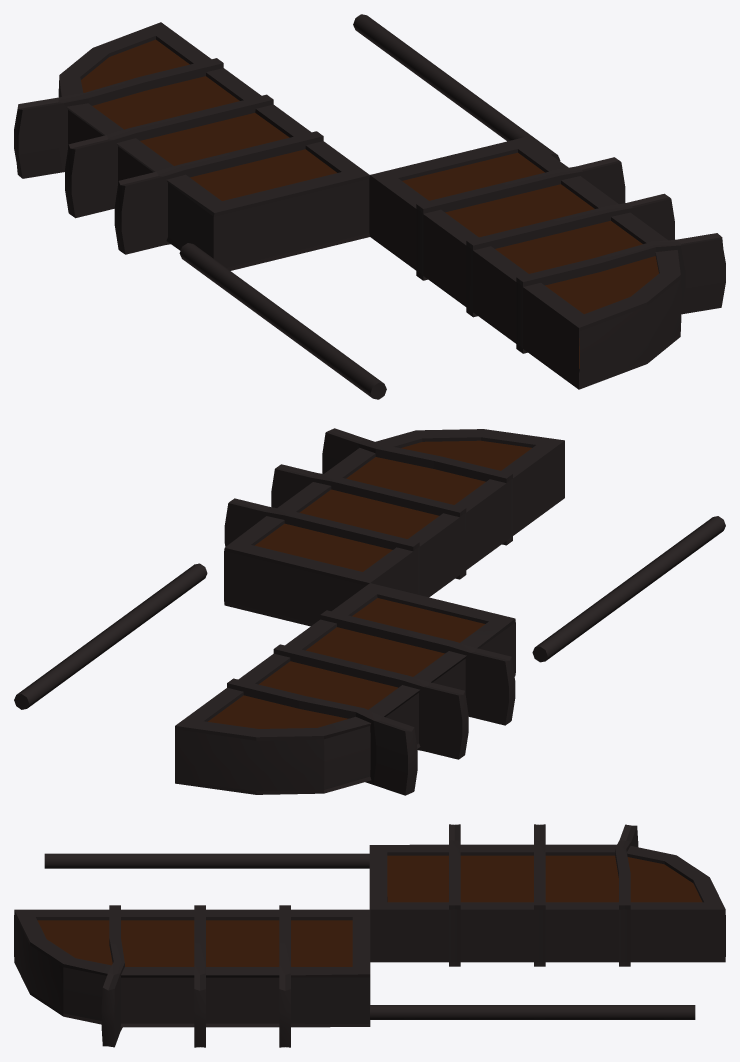
The model's file is Porta.FBX.
3 renders of one model, top to bottom at view 1: azimuth 30°, elevation 25°; view 2: azimuth 150°, elevation 25°; view 3: azimuth 270°, elevation 25°, orthographic. The views are drawn at different scales.
Parts seen in each view (by area): view 1: Box002, Box001, Cylinder002, Cylinder003; view 2: Box001, Box002, Cylinder002, Cylinder003; view 3: Box002, Box001, Cylinder002, Cylinder003.
Part boxes in pixels (<box>): Box002: <box>370,137,725,389</box>; Box001: <box>14,22,369,270</box>; Cylinder002: <box>179,243,386,399</box>; Cylinder003: <box>353,14,560,160</box>; Box001: <box>175,583,515,795</box>; Box002: <box>224,428,564,626</box>; Cylinder002: <box>532,516,725,662</box>; Cylinder003: <box>14,563,207,709</box>; Box002: <box>14,905,370,1047</box>; Box001: <box>369,824,725,966</box>; Cylinder002: <box>44,853,369,868</box>; Cylinder003: <box>370,1005,695,1019</box>.
Size of the model in its own units: 234 by 39.64 by 419.
